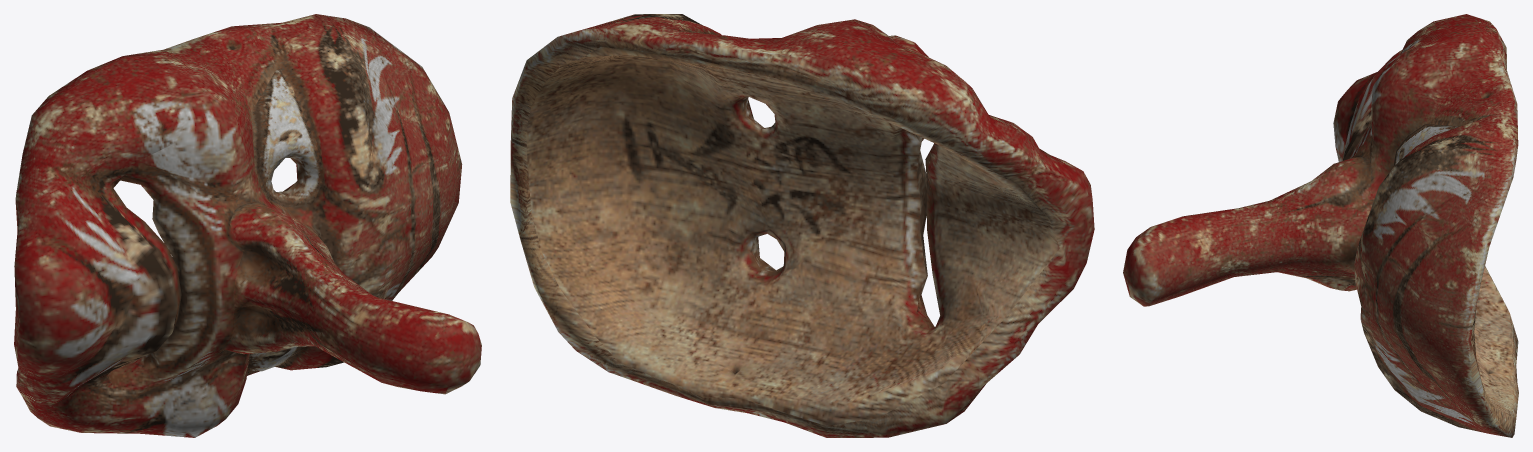
Rendered from M_TenguMask.fbx.
3 renders of one model, left to right at view 1: azimuth 30°, elevation 25°; view 2: azimuth 150°, elevation 25°; view 3: azimuth 270°, elevation 25°, orthographic. The views are drawn at different scales.
Parts seen in each view (by area): view 1: Tengu_low.001; view 2: Tengu_low.001; view 3: Tengu_low.001.
Part boxes in pixels (x1,y1,x2,y2): Tengu_low.001: (14,14,481,437); Tengu_low.001: (510,14,1094,437); Tengu_low.001: (1123,14,1518,437).
Size of the model in its own units: 0.1637 by 0.1151 by 0.1249.
